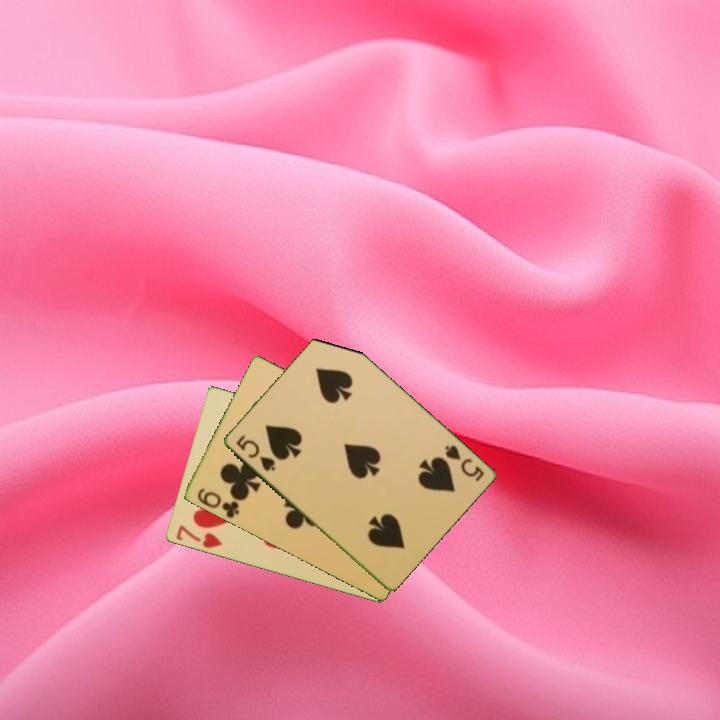5s: (441, 441, 487, 485), (232, 431, 278, 474)
6c: (193, 485, 242, 521)
7h: (172, 522, 225, 551)
